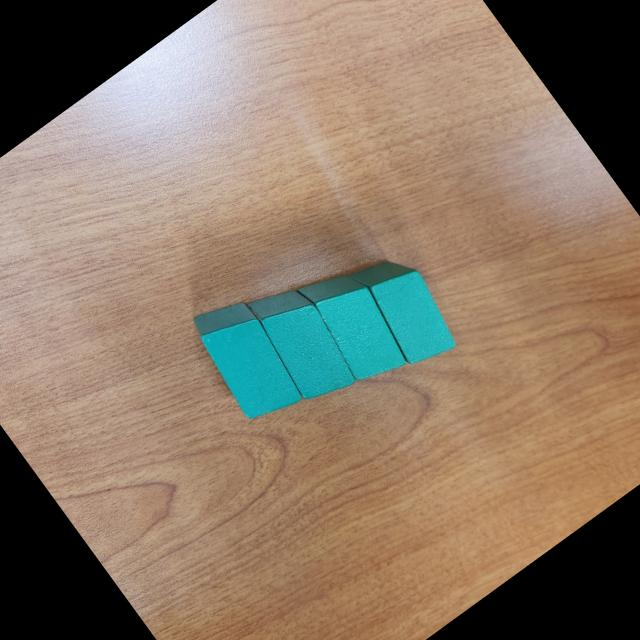green: (182, 286, 313, 432), (290, 253, 418, 393), (240, 272, 366, 412), (343, 239, 468, 377)
